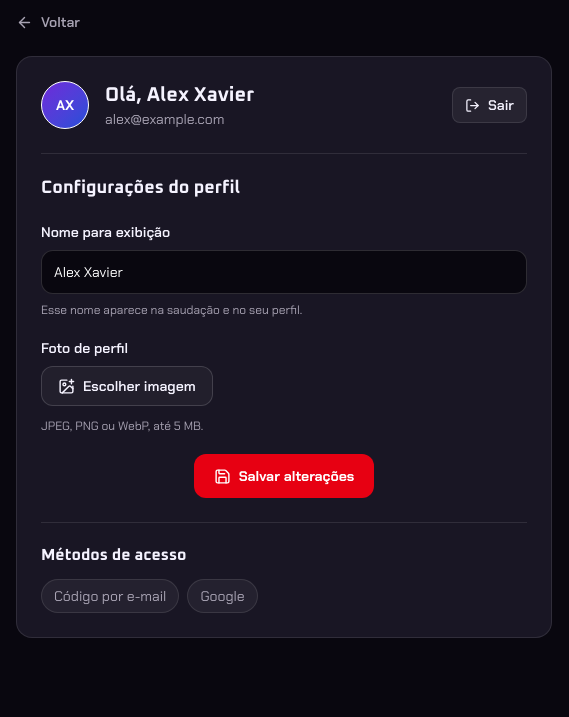
Test case: ProfilePage › stays on profile and shows a sanitized error when sign out fails
The width and height of the screenshot is (569, 717).
Click the button "Sair": (490,105) top-left (452, 87), bottom-right (527, 123)
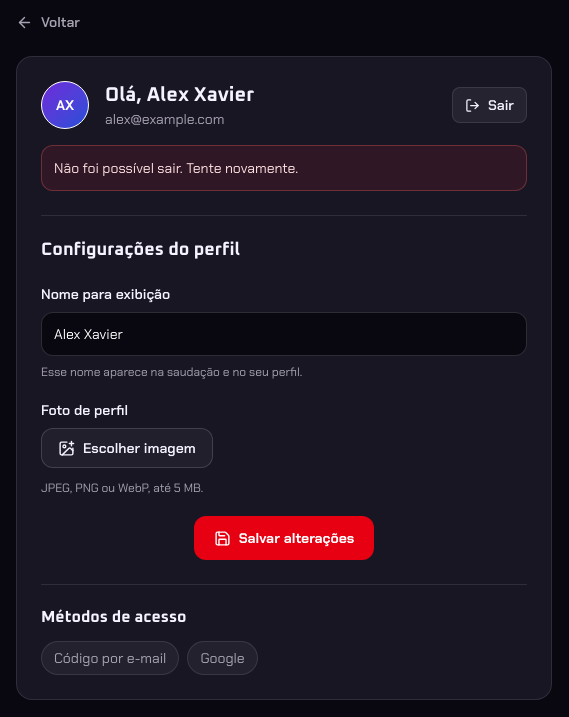
Now the message reads "Não foi possível sair. Tente novamente.", box top-left (54, 159), bottom-right (298, 177)
